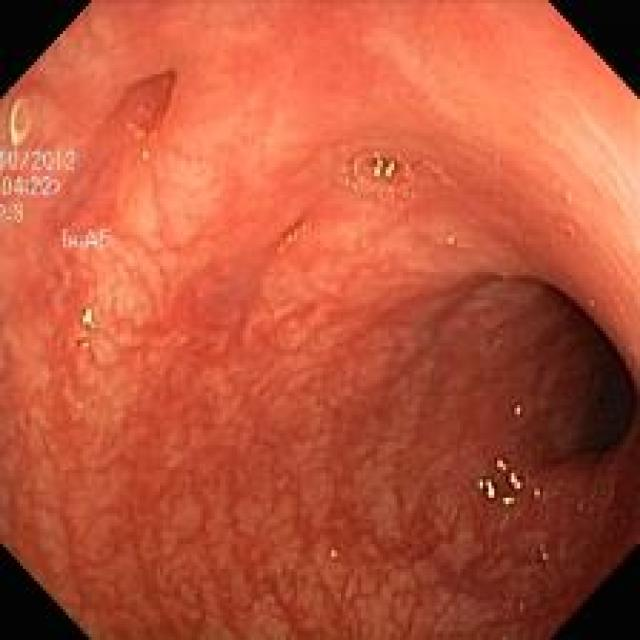ulcerative-colitis-grade-0-1: (0, 188, 379, 640), (369, 385, 588, 640)
